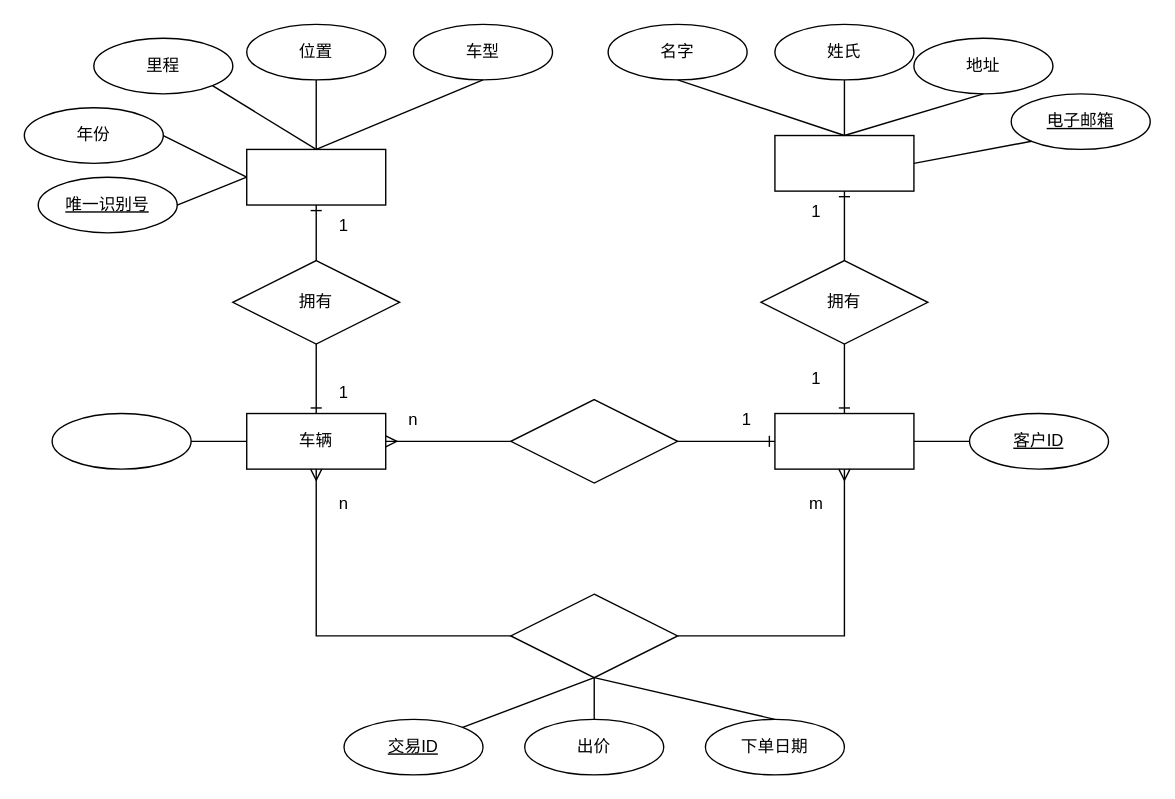
Image size: 1175x799. Some labels were removed from this diagram. Each missing label, with the centre of its shape:
"交易" belongs at point 593,635.
"客户" belongs at point 844,440.
"客户信息" belongs at point 844,162.
"赢得" belongs at point 593,440.
"车辆ID" belongs at point 121,440.
"车辆信息" belongs at point 315,176.
